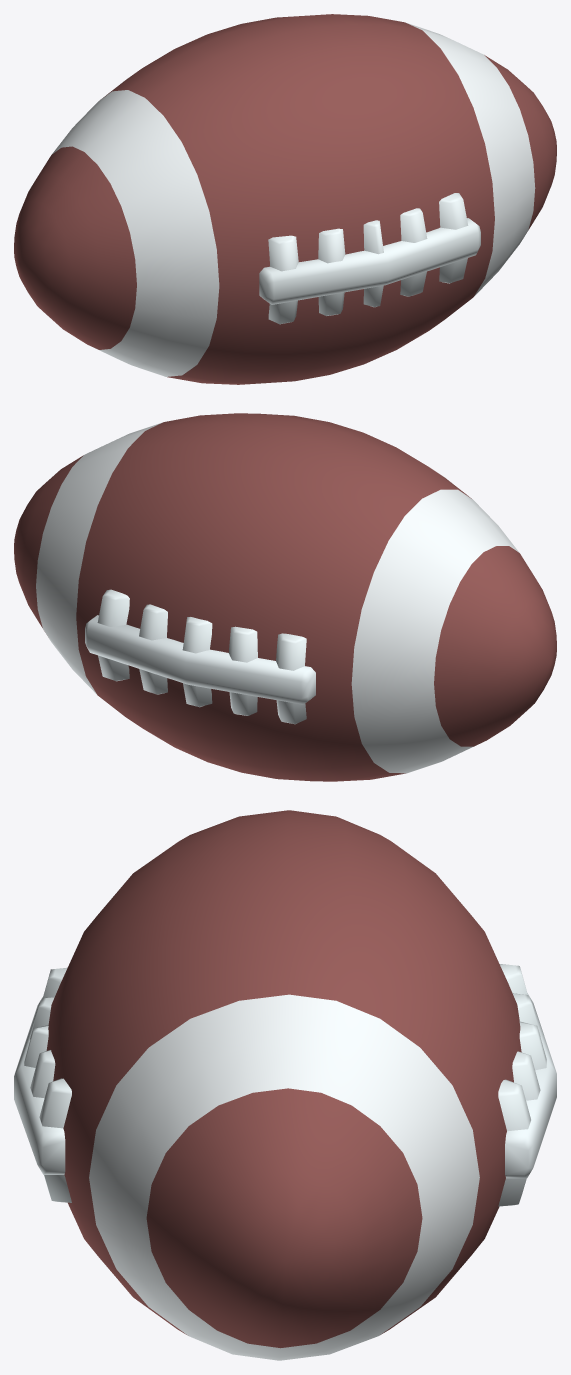
File: ball.fbx
The picture shows the model from 3 angles, top to bottom: view 1: azimuth 30°, elevation 25°; view 2: azimuth 150°, elevation 25°; view 3: azimuth 270°, elevation 25°; orthographic projection. The views are drawn at different scales.
Parts seen in each view (by area): view 1: ball; view 2: ball; view 3: ball.
Part boxes in pixels (bbox=[...]): ball: bbox=[14, 14, 556, 384]; ball: bbox=[14, 413, 556, 781]; ball: bbox=[14, 810, 556, 1360].
Size of the model in its own units: 97.1 by 57.61 by 62.96.
